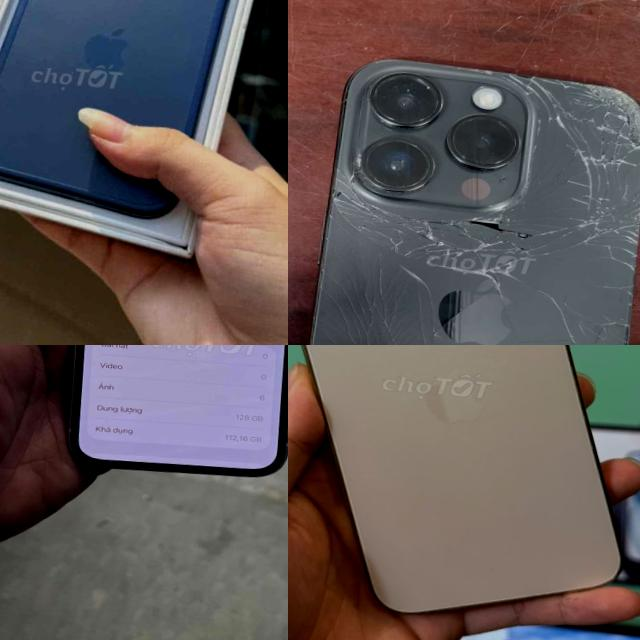gen_12_13: (288, 345, 640, 640), (63, 345, 288, 489)
gen_14: (288, 39, 640, 345)
gen_17: (0, 0, 242, 225)
physical_damage: (439, 252, 586, 343), (317, 177, 446, 256), (559, 169, 640, 273), (448, 196, 560, 266), (488, 54, 596, 124), (309, 292, 433, 345), (318, 248, 440, 300), (530, 116, 604, 178), (580, 273, 640, 345), (591, 80, 640, 151), (597, 143, 640, 196)
